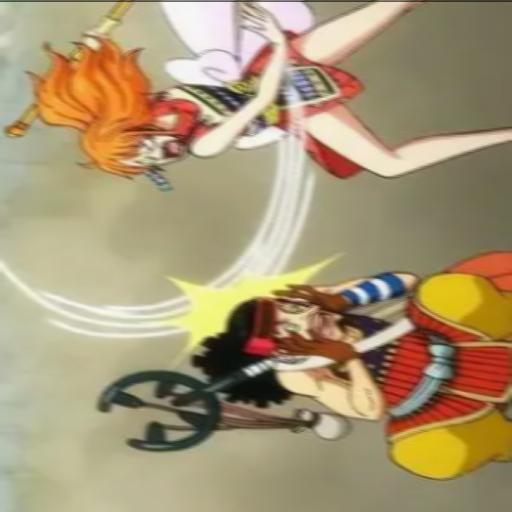Nami: (1, 0, 512, 189)
Usopp: (87, 245, 512, 491)
